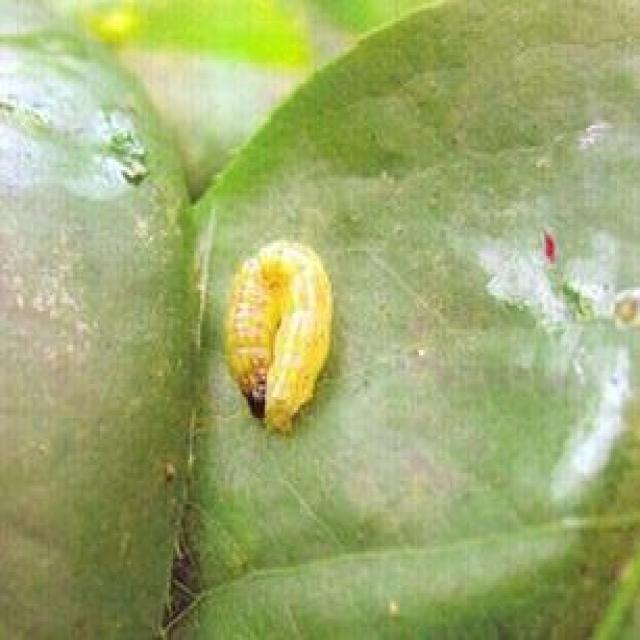peach borer: (221, 232, 340, 439)
